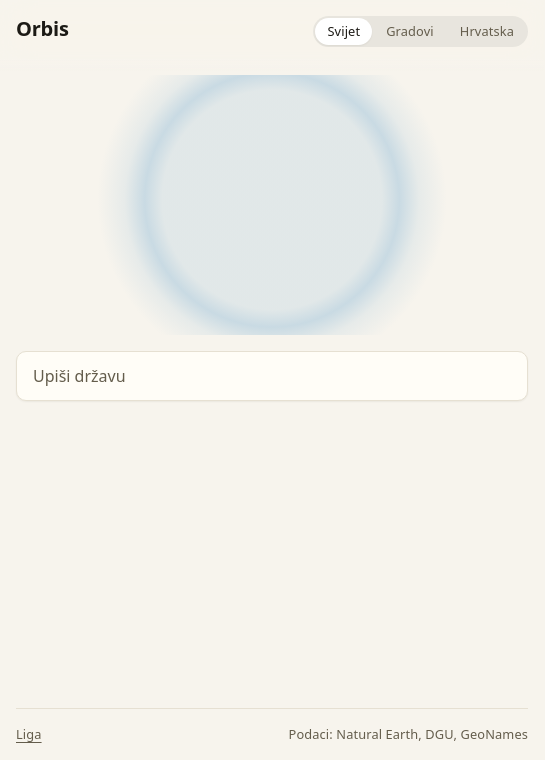
Test case: App › neprepoznato ime ne trosi pokusaj
In the dropdown labelled "Upiši državu": (272, 376) left=16, top=351, right=528, bottom=401, type "Xyzzy"
Then press Enter
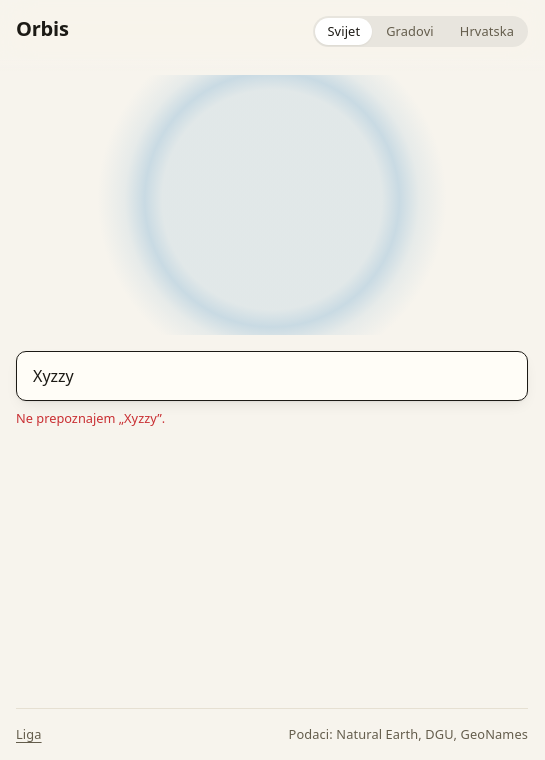
Result: the text "Ne prepoznajem „Xyzzy”." is shown at left=16, top=409, right=165, bottom=427
